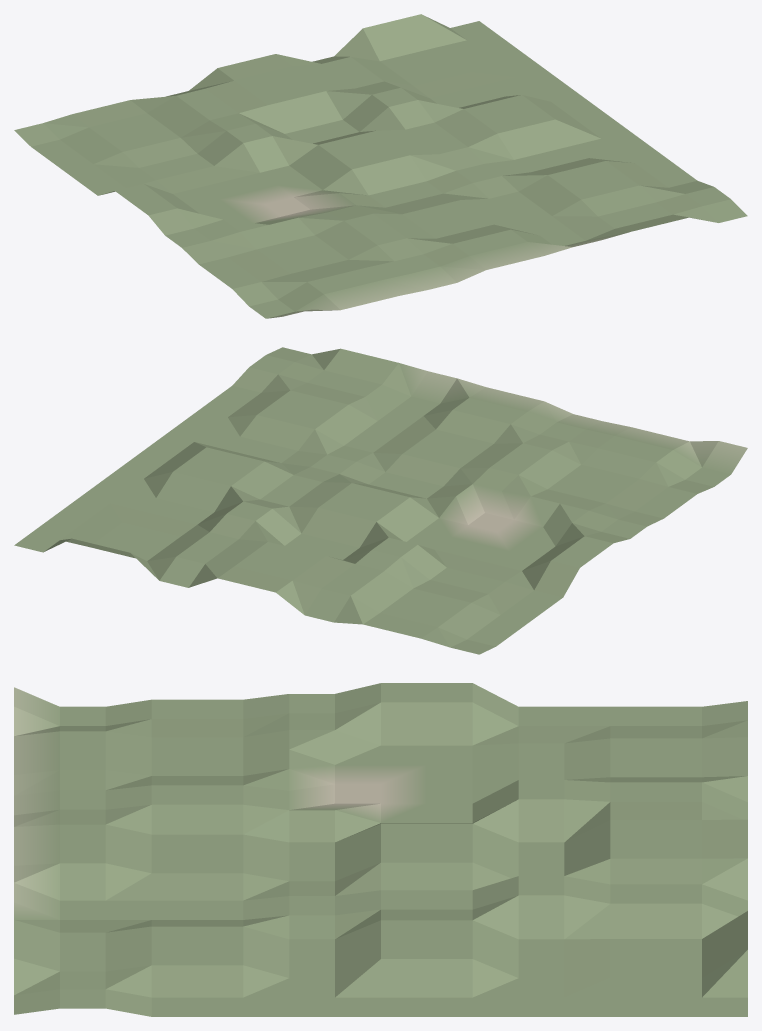
3 views of the same model, one above another, from view 1: azimuth 30°, elevation 25°; view 2: azimuth 150°, elevation 25°; view 3: azimuth 270°, elevation 25° (orthographic). The views are drawn at different scales.
Size of the model in its own units: 32 by 1.38 by 32.
